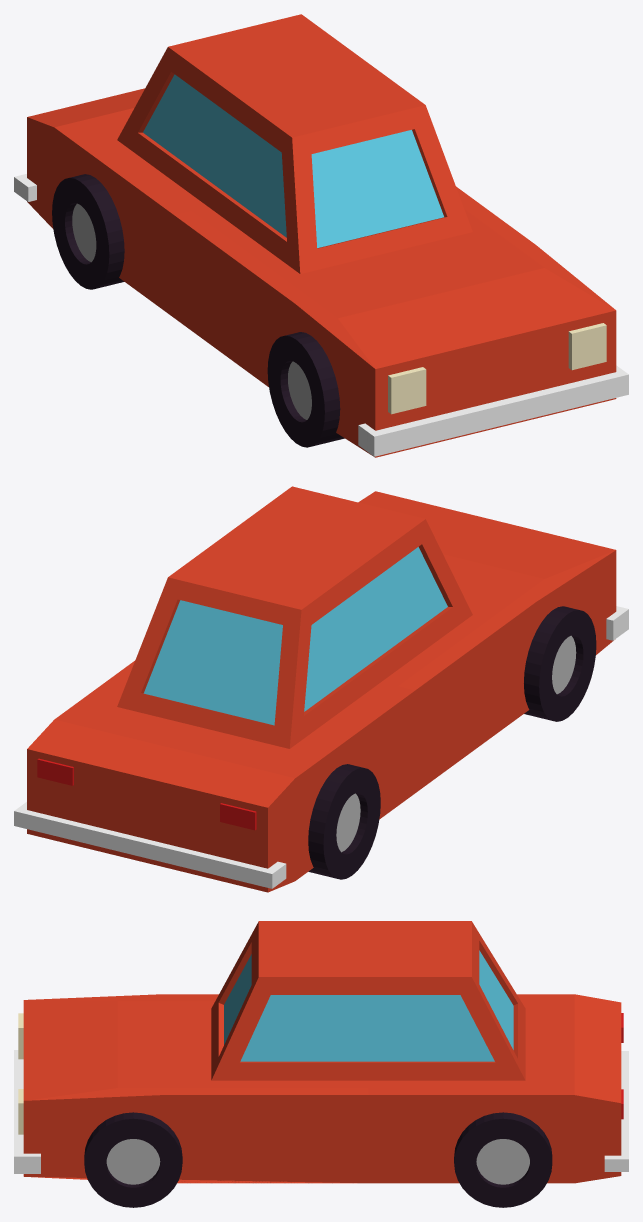
Rendered from car.glb.
3 renders of one model, top to bottom at view 1: azimuth 30°, elevation 25°; view 2: azimuth 150°, elevation 25°; view 3: azimuth 270°, elevation 25°, orthographic. The views are drawn at different scales.
Parts seen in each view (by area): view 1: Cube; view 2: Cube; view 3: Cube.
Part boxes in pixels (x1=…): Cube: x1=14, y1=14, x2=628, y2=457; Cube: x1=14, y1=486, x2=628, y2=892; Cube: x1=14, y1=921, x2=628, y2=1207.
Bounding box in the file's own units: 1.95 × 1.62 × 4.46.
